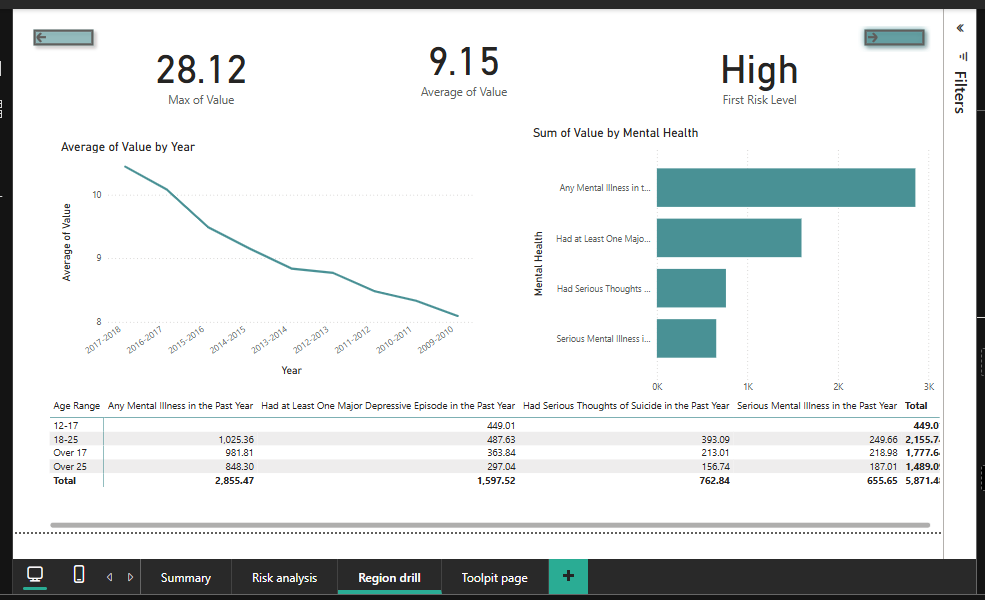

What the dashboard file says about the page in this screenshot:
{"tool":"powerbi","page":{"name":"Region drill","canvas":[1280,720],"ordinal":2},"visuals":[{"type":"barChart","fields":{"Category":["cleaned_mental_health_data.Mental Health"],"Y":["Sum(cleaned_mental_health_data.Value)"]},"box":[710.2,159.7,569.8,392.3],"z":0},{"type":"lineChart","fields":{"Category":["cleaned_mental_health_data.Year"],"Y":["Avg(cleaned_mental_health_data.Value)"]},"box":[60.6,178.9,579.4,331.7],"z":1000},{"type":"pivotTable","fields":{"Rows":["cleaned_mental_health_data.Age Range"],"Columns":["cleaned_mental_health_data.Mental Health"],"Values":["Sum(cleaned_mental_health_data.Value)"]},"box":[45.4,529.9,1234.6,189.9],"z":2000},{"type":"card","fields":{"Values":["Max(cleaned_mental_health_data.Value)"]},"box":[130.8,31.7,256,110.1],"z":3000},{"type":"card","fields":{"Values":["Avg(cleaned_mental_health_data.Value)"]},"box":[480.3,19.3,280.8,111.5],"z":4000},{"type":"card","fields":{"Values":["Min(cleaned_mental_health_data.Risk Level)"]},"box":[923.5,37.2,207.8,99.1],"z":5000},{"type":"actionButton","box":[19.3,19.3,100.5,39.9],"z":5001},{"type":"actionButton","box":[1163,19.3,100.5,39.9],"z":5002}]}

Visuals, with their boxes in screenshot pixels (x1, y1, x2, y2):
barChart - cleaned_mental_health_data.Mental Health x Sum(cleaned_mental_health_data.Value): [523, 115, 971, 424]
lineChart - cleaned_mental_health_data.Year x Avg(cleaned_mental_health_data.Value): [12, 130, 468, 391]
pivotTable - cleaned_mental_health_data.Age Range x cleaned_mental_health_data.Mental Health: [0, 407, 971, 556]
card - Max(cleaned_mental_health_data.Value): [67, 15, 268, 101]
card - Avg(cleaned_mental_health_data.Value): [342, 5, 563, 93]
card - Min(cleaned_mental_health_data.Risk Level): [691, 19, 854, 97]
actionButton: [0, 5, 58, 36]
actionButton: [879, 5, 958, 36]
